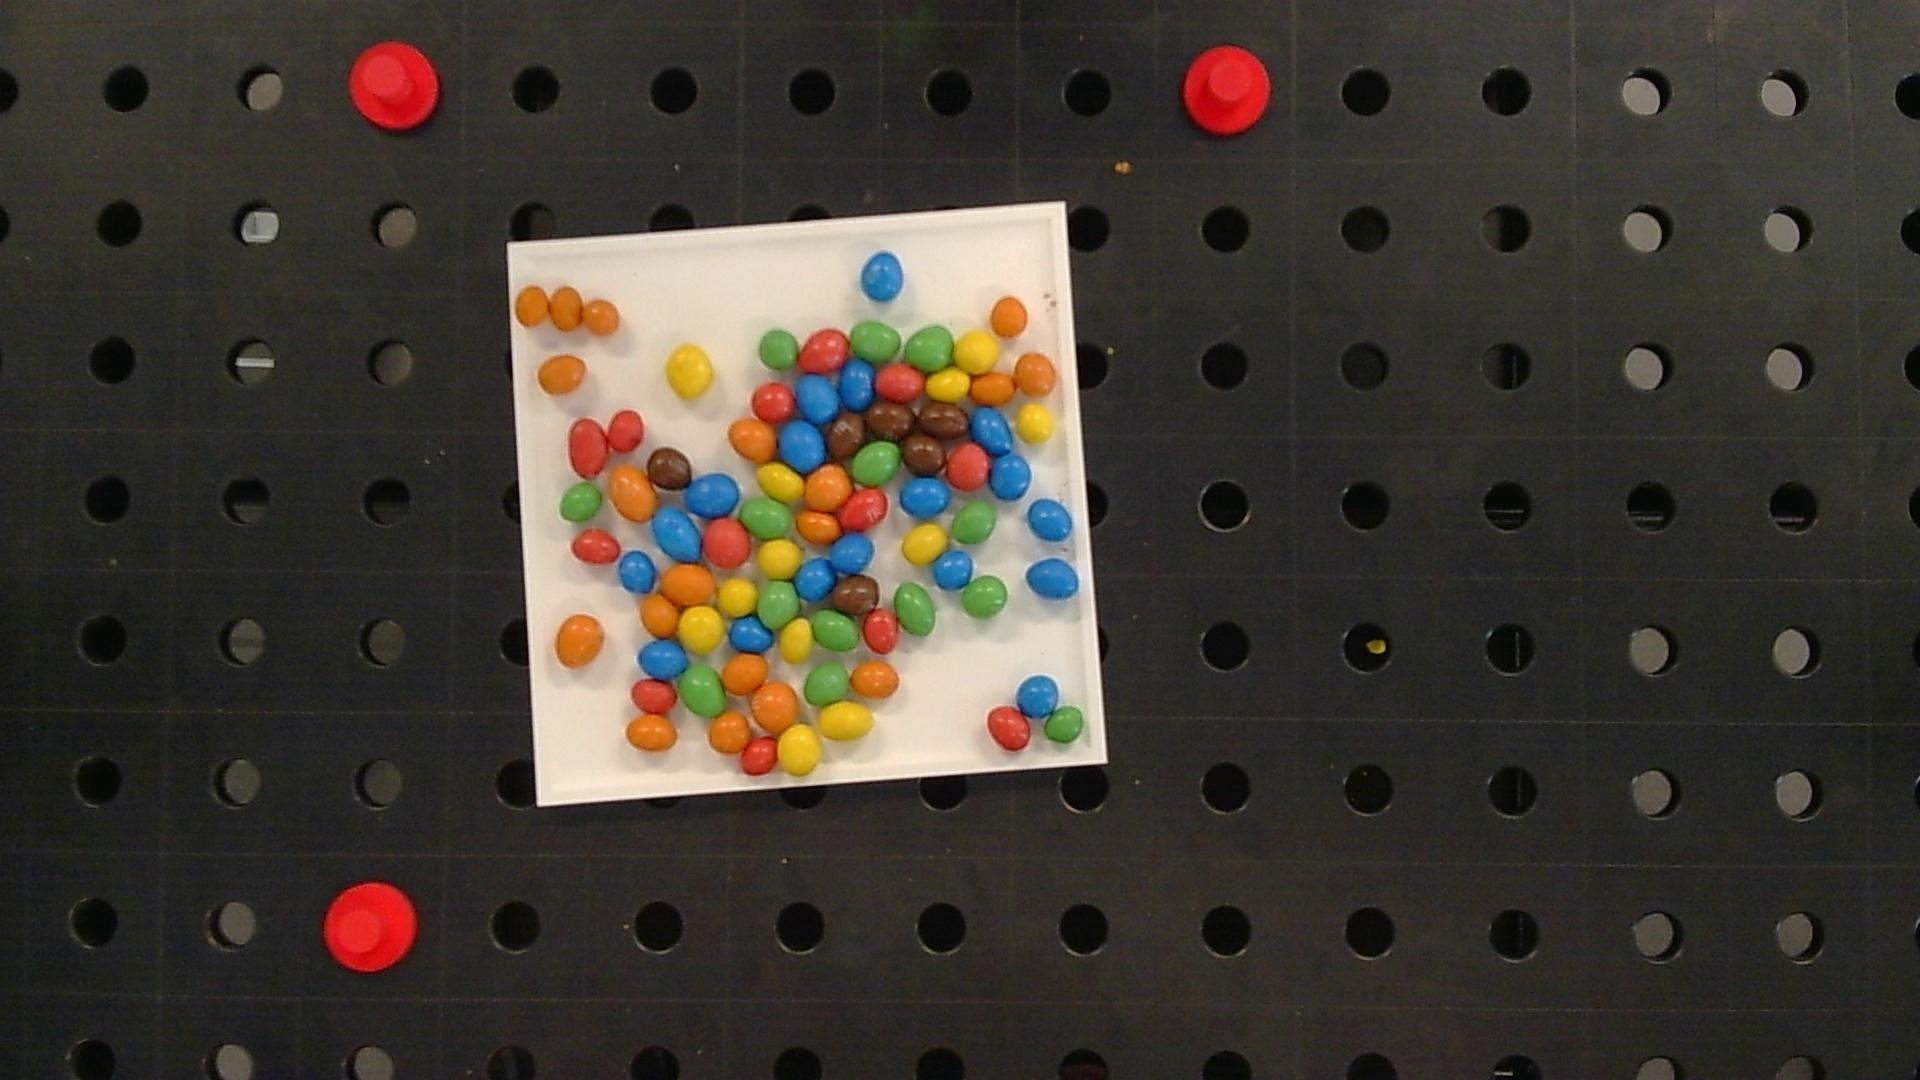blue: (654, 508, 702, 560), (687, 473, 740, 517), (795, 375, 840, 422), (781, 421, 824, 469), (861, 252, 903, 302), (1026, 559, 1079, 599), (901, 476, 949, 517), (1027, 500, 1072, 542), (794, 556, 836, 601), (971, 407, 1011, 454), (989, 452, 1030, 498), (638, 640, 687, 678), (1017, 675, 1059, 716), (832, 533, 874, 574), (840, 360, 874, 409), (729, 615, 773, 651), (934, 551, 973, 589), (620, 551, 655, 592)
brown: (865, 401, 918, 438), (647, 447, 692, 489), (833, 575, 880, 616), (902, 434, 945, 475), (825, 414, 865, 459), (920, 404, 968, 439)
green: (679, 665, 724, 716), (851, 440, 901, 485), (894, 583, 936, 636), (741, 496, 793, 538), (905, 326, 953, 369), (851, 322, 901, 363), (961, 576, 1009, 618), (758, 580, 799, 628), (952, 501, 997, 543), (812, 611, 858, 651), (804, 662, 848, 704), (559, 483, 603, 522), (760, 330, 798, 369), (1044, 707, 1085, 744)
orange: (555, 613, 604, 667), (609, 465, 657, 521), (752, 682, 798, 732), (661, 564, 716, 604), (729, 419, 777, 462), (806, 465, 851, 508), (538, 355, 585, 394), (851, 661, 899, 698), (1015, 352, 1056, 396), (723, 654, 767, 694), (626, 716, 678, 750), (708, 712, 750, 753), (641, 593, 679, 637), (971, 372, 1015, 405), (550, 286, 583, 330), (990, 297, 1027, 335), (796, 512, 840, 542), (516, 286, 549, 326), (584, 299, 618, 334)
red: (568, 418, 608, 476), (703, 520, 750, 566), (799, 328, 849, 372), (986, 705, 1031, 750), (947, 444, 990, 489), (840, 489, 886, 530), (876, 365, 924, 400), (607, 409, 645, 451), (571, 530, 620, 563), (752, 384, 795, 421), (864, 608, 898, 653), (632, 679, 676, 713), (741, 738, 777, 775)
yellow: (666, 344, 715, 398), (816, 700, 873, 740), (678, 607, 725, 653), (777, 724, 820, 774), (955, 330, 998, 372), (902, 524, 947, 563), (758, 463, 804, 501), (758, 539, 800, 579), (779, 618, 814, 662), (924, 368, 969, 401), (1017, 404, 1055, 442), (717, 578, 757, 615)
